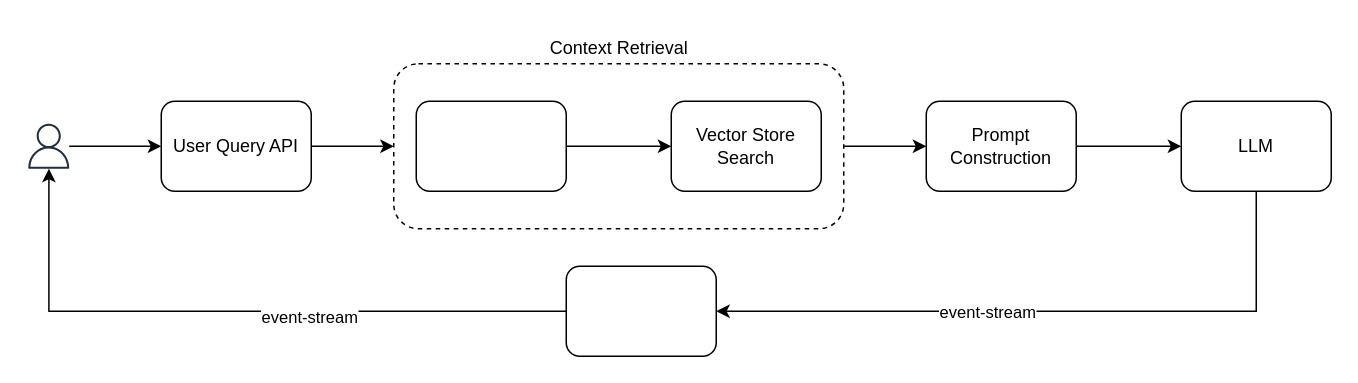
Some shapes in this 1358 by 383 pixel diagram are drawn without their labels. The shapes that lost their labels are listed below. From the top down, each one's centre as x and y in pixels, then its label:
At (490,145): "Embedding".
At (640,310): "Format Response".
